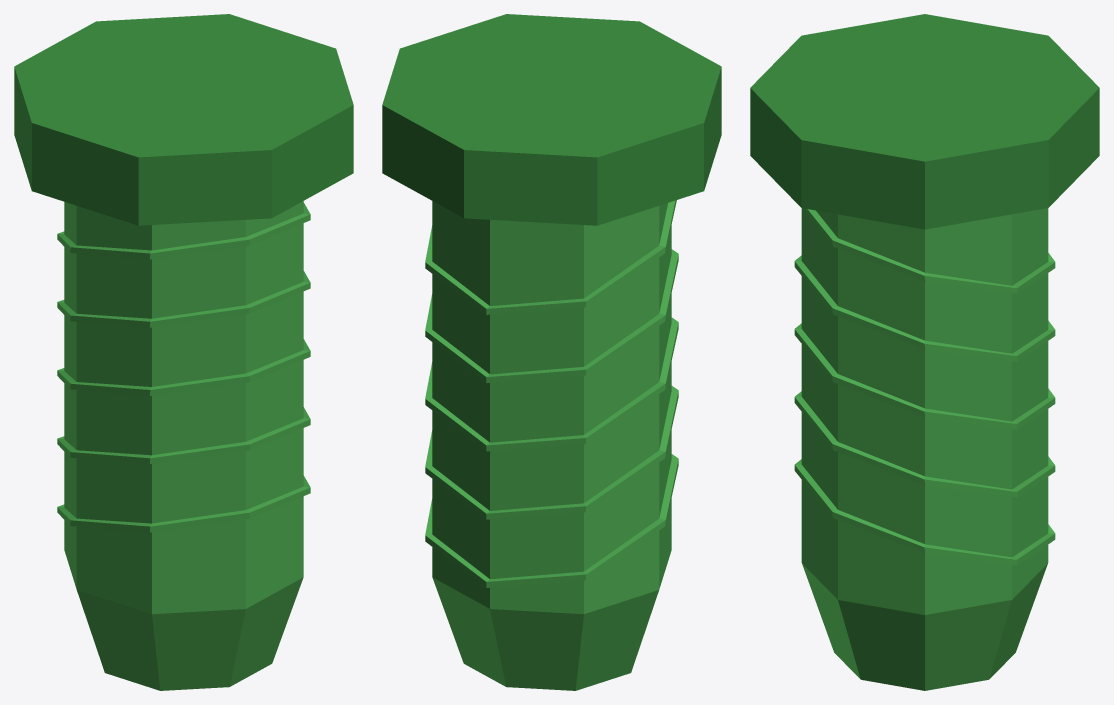
The model's file is Screw.fbx.
3 renders of one model, left to right at view 1: azimuth 30°, elevation 25°; view 2: azimuth 150°, elevation 25°; view 3: azimuth 270°, elevation 25°, orthographic.
Visible parts, largest first — view 1: Screw; view 2: Screw; view 3: Screw.
Part boxes in pixels (box(x1,y1,x2,y2)): Screw: box(14, 14, 353, 690); Screw: box(382, 14, 721, 690); Screw: box(750, 14, 1099, 690).
Bounding box in the file's own units: 2.37 × 4.22 × 2.37.
1 material, 1 textured.
